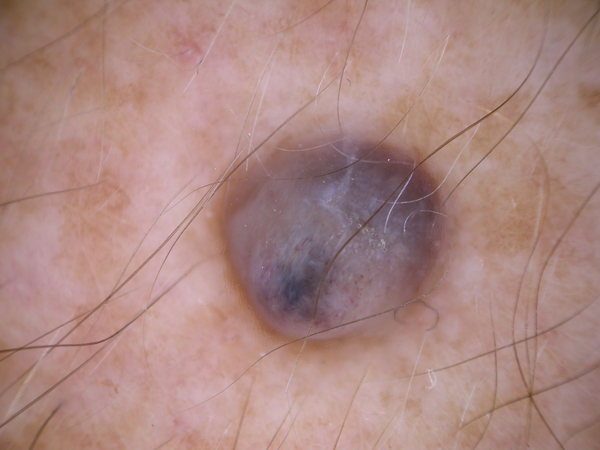Detected Lesion: (213, 119, 452, 356)
